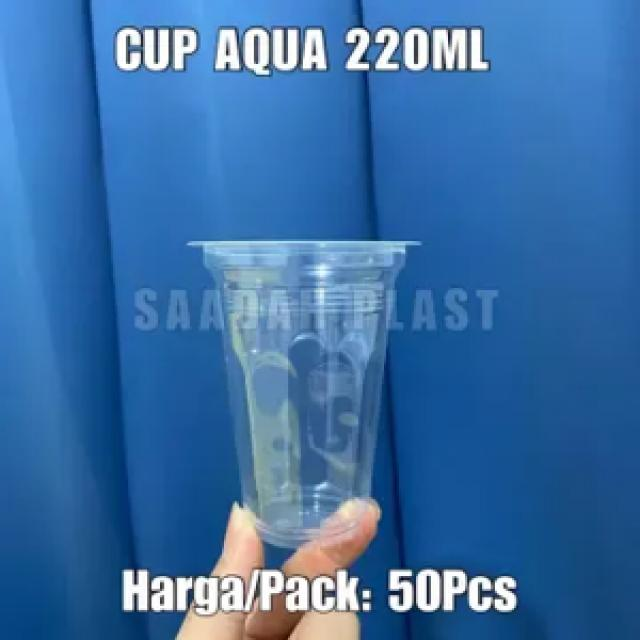plastic cup: (177, 228, 429, 559)
